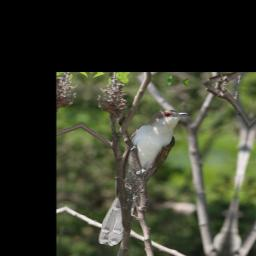Cuckoo: (95, 102, 194, 251)
